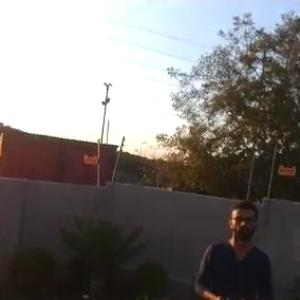follow: (188, 194, 280, 299)
